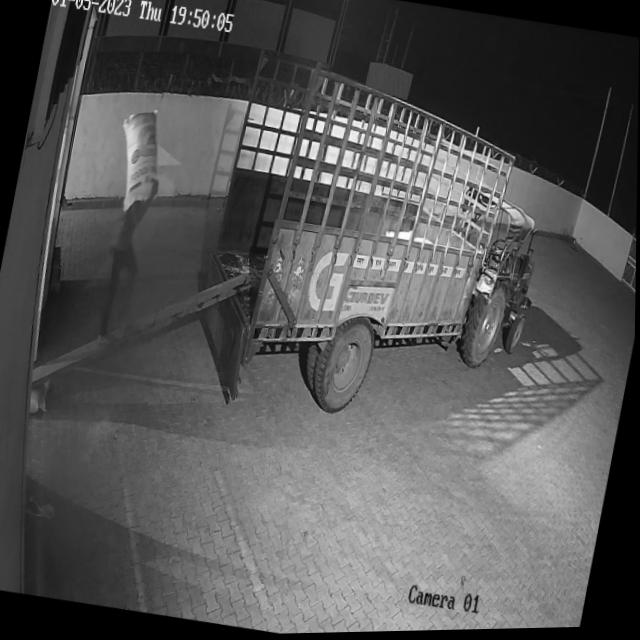sack: (108, 104, 171, 215)
